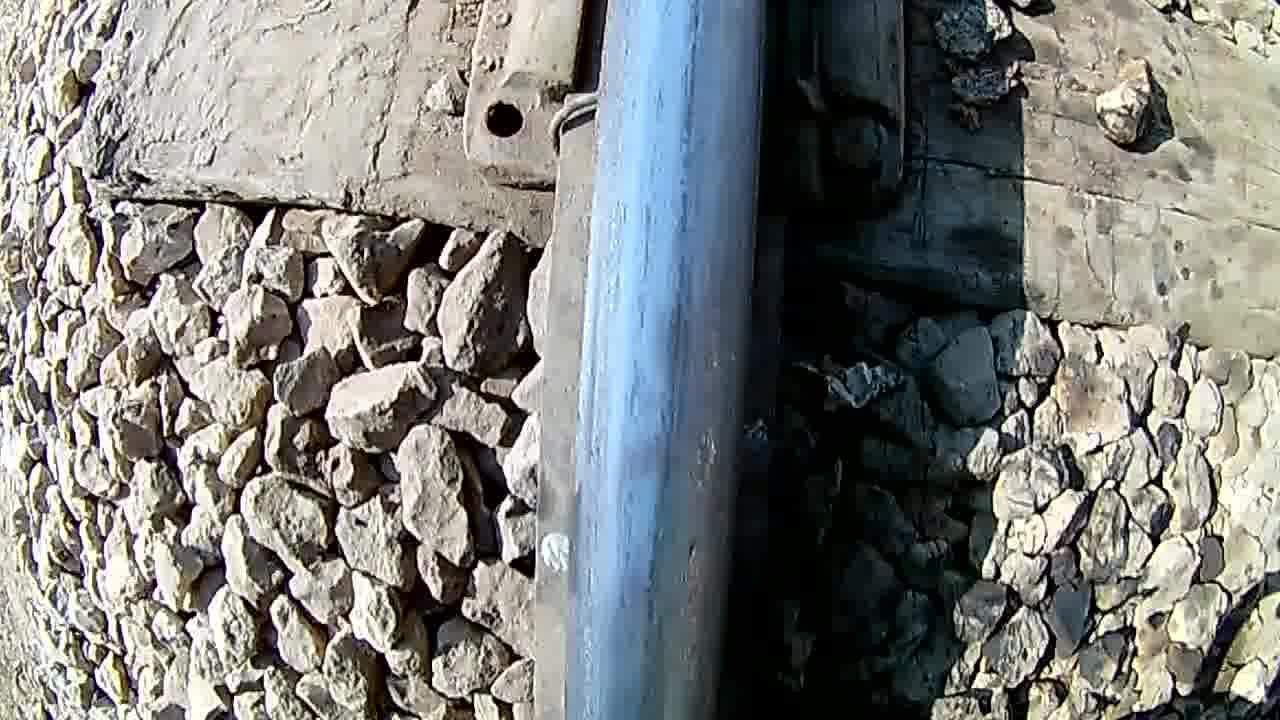crack: (607, 5, 726, 720)
